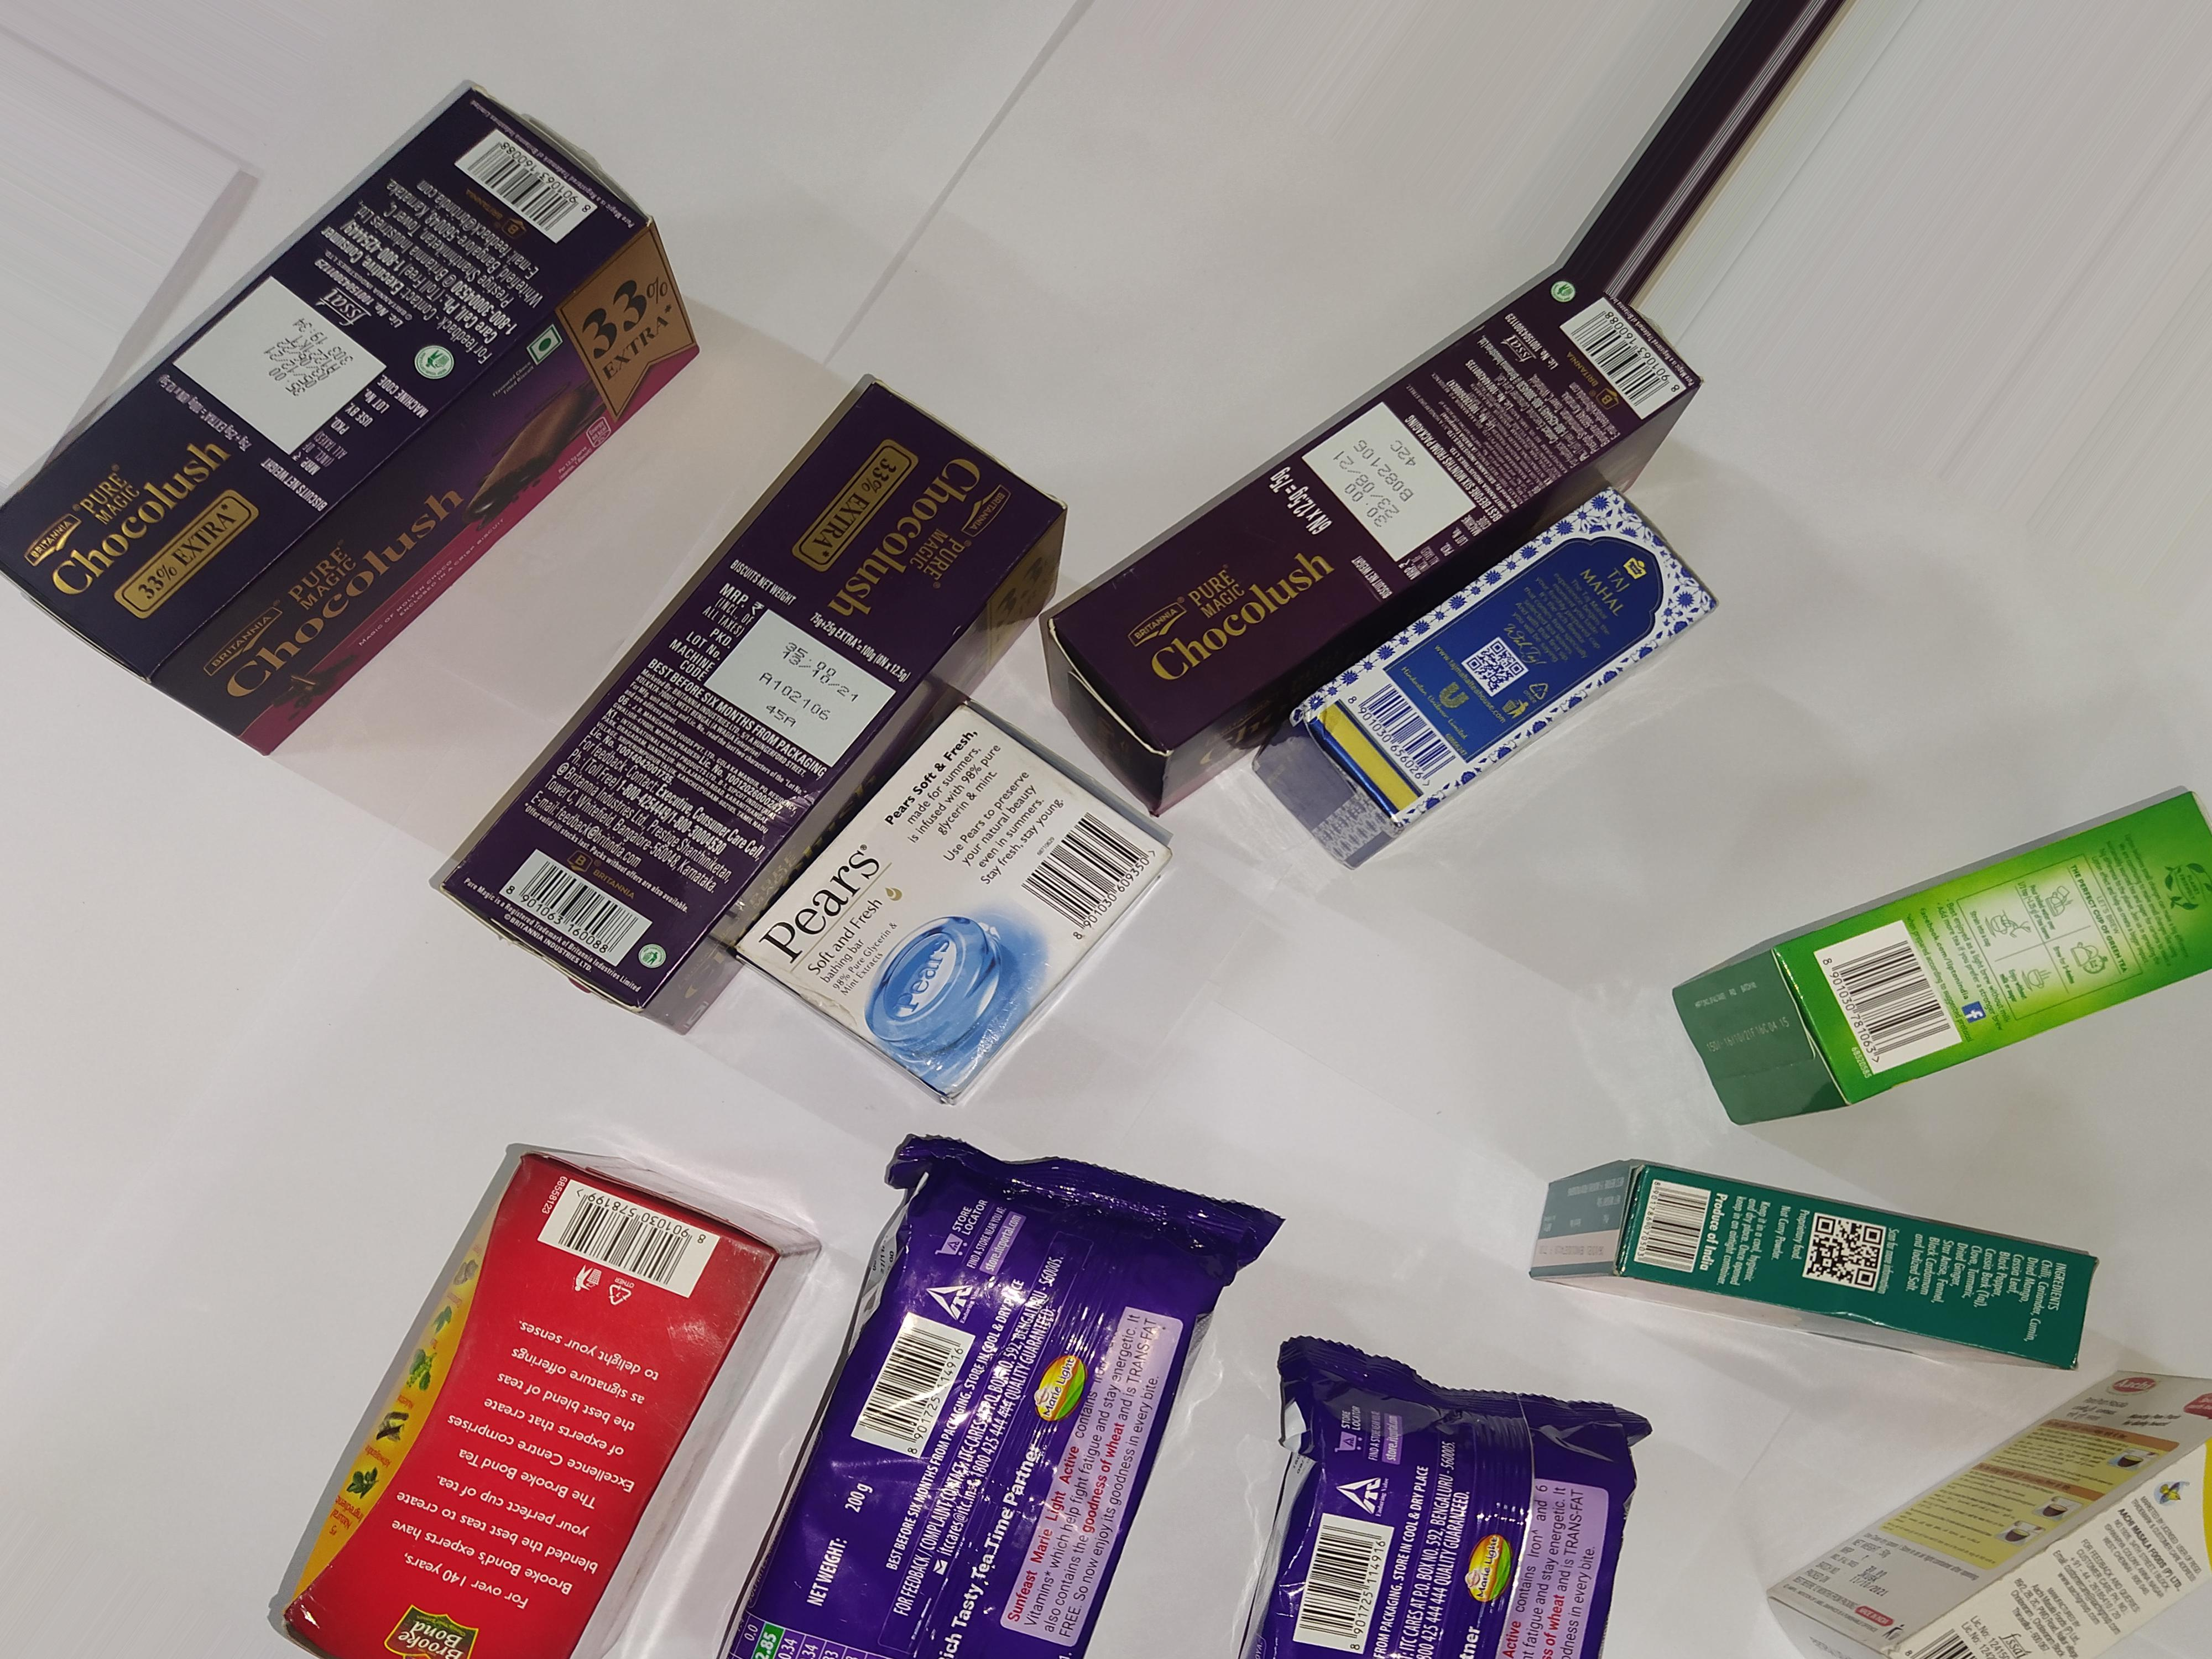Bar_code: (1803, 927, 1970, 1089), (536, 1173, 733, 1302), (1547, 293, 1721, 420), (498, 850, 664, 983), (852, 1307, 981, 1471), (1021, 816, 1172, 950), (455, 131, 611, 237), (1291, 1506, 1390, 1659), (1350, 681, 1460, 796), (1632, 1169, 1726, 1298), (1905, 1633, 1980, 1659)
Item: (10, 51, 711, 772), (437, 387, 1045, 1026), (219, 1138, 831, 1659), (796, 1126, 1278, 1659), (740, 694, 1245, 1152), (1080, 277, 1750, 547), (1681, 784, 2212, 1114), (1247, 1297, 1719, 1659), (1498, 1140, 2137, 1401), (1731, 1340, 2212, 1659), (1273, 606, 1695, 889)
QR_code: (1804, 1204, 1895, 1298), (1461, 629, 1534, 702)
